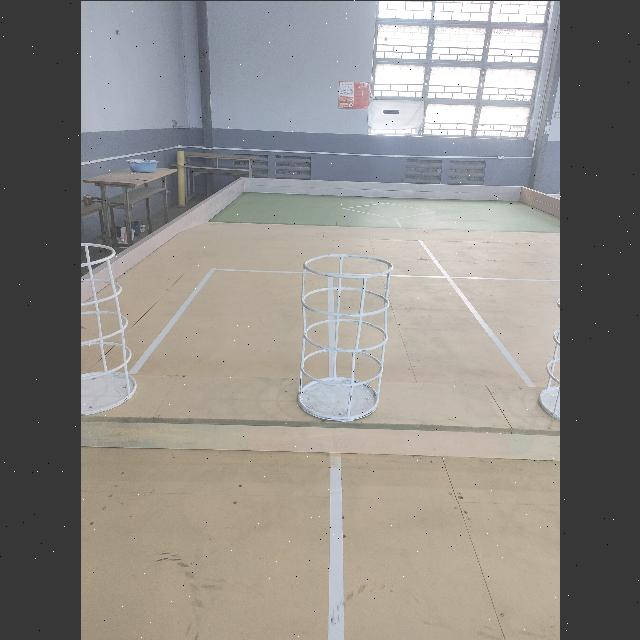S: (296, 251, 395, 422), (80, 238, 136, 419), (538, 290, 560, 422)
